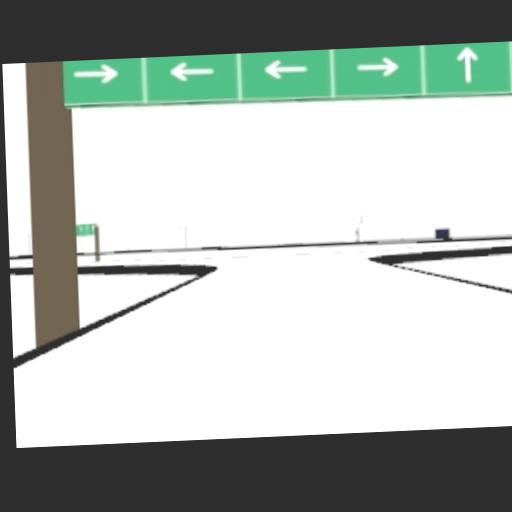Left: (167, 60, 215, 82), (263, 57, 309, 79)
Right: (71, 62, 120, 84), (355, 55, 399, 77)
Straight: (454, 44, 480, 82)
